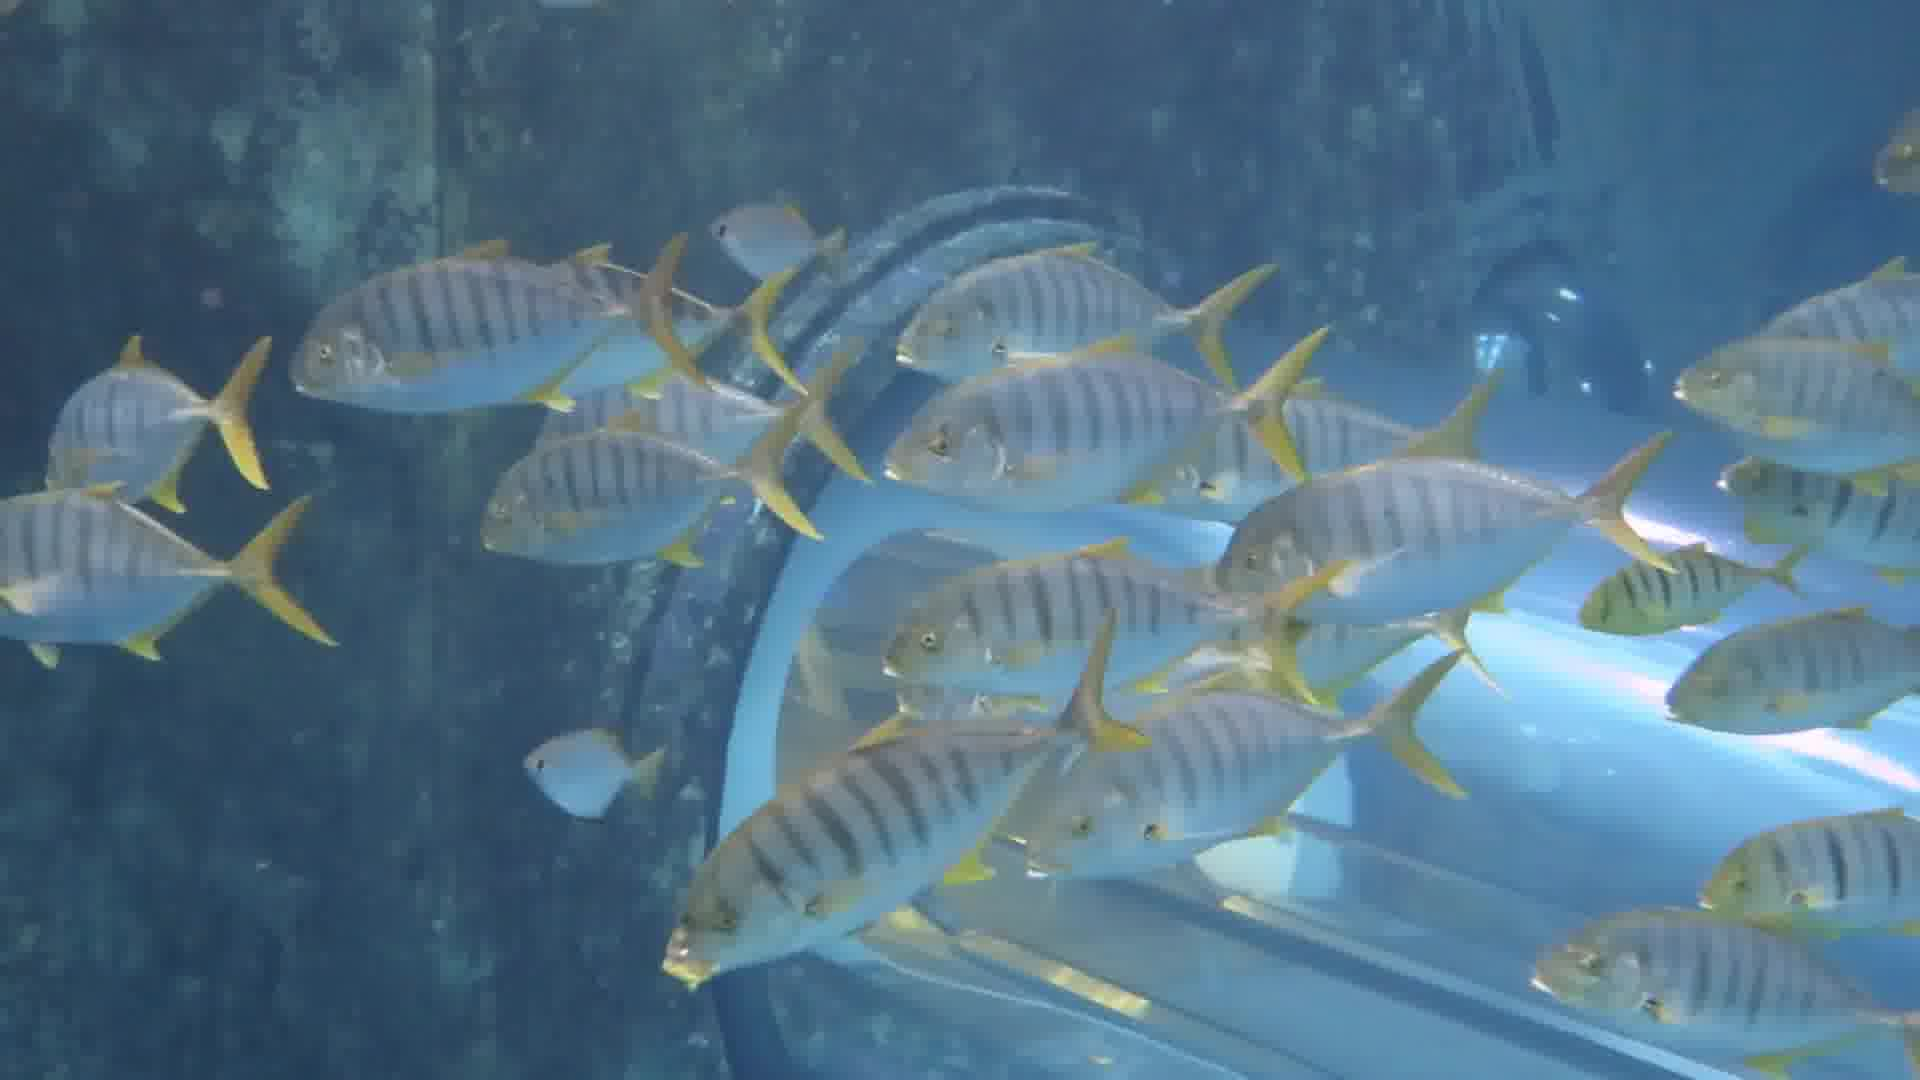Gnathanodon speciosus: (665, 705, 1087, 980), (986, 680, 1427, 899), (872, 343, 1329, 510), (301, 223, 719, 404), (462, 411, 843, 587), (862, 564, 1327, 673), (889, 255, 1250, 386), (1668, 282, 1920, 462), (1522, 911, 1898, 1023), (1677, 597, 1913, 771)
